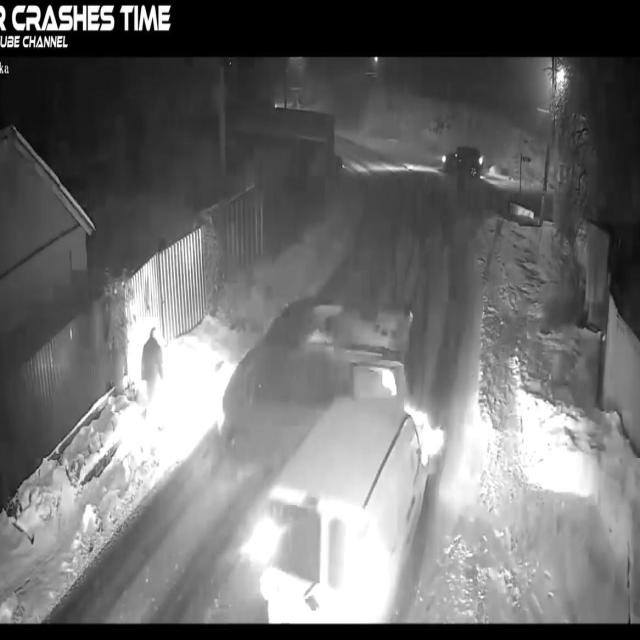accident: (175, 298, 439, 622)
